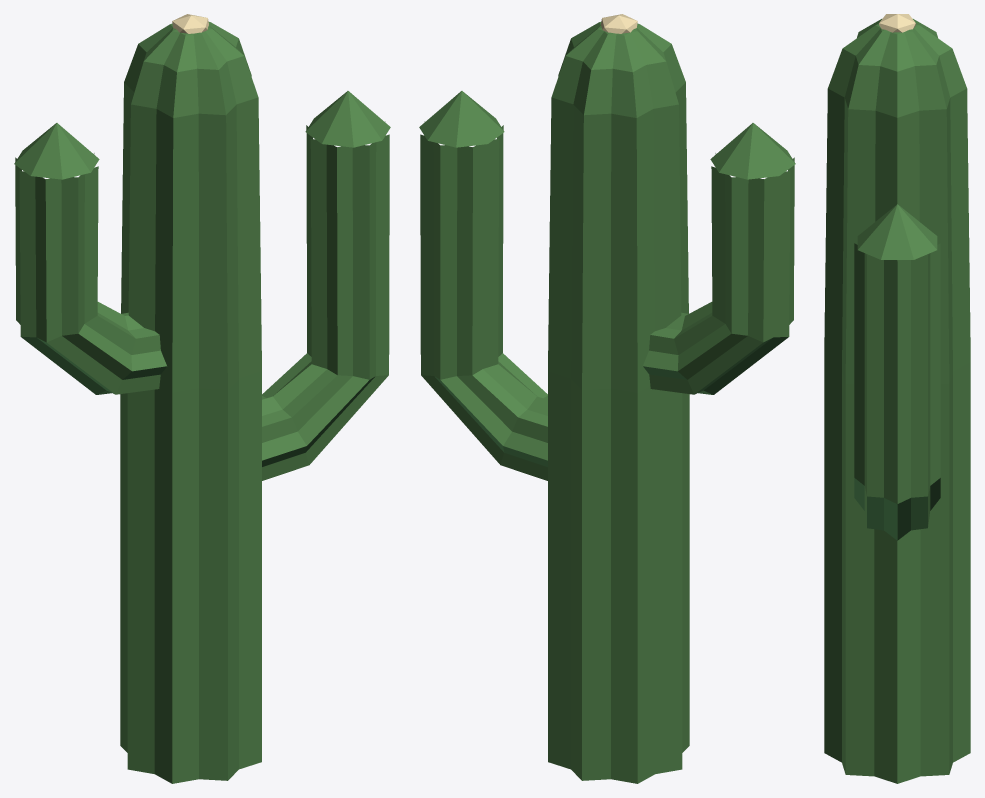
File: cactus_a.glb
The picture shows the model from 3 angles, left to right: view 1: azimuth 30°, elevation 25°; view 2: azimuth 150°, elevation 25°; view 3: azimuth 270°, elevation 25°; orthographic projection.
Visible parts, largest first — view 1: cactus_a; view 2: cactus_a; view 3: cactus_a.
Boxes of the visible parts, box(x1,y1,x2,y2) form: cactus_a: box(14, 14, 390, 783); cactus_a: box(419, 14, 795, 783); cactus_a: box(824, 14, 970, 783).
Bounding box in the file's own units: 0.98 × 1.89 × 0.34.
